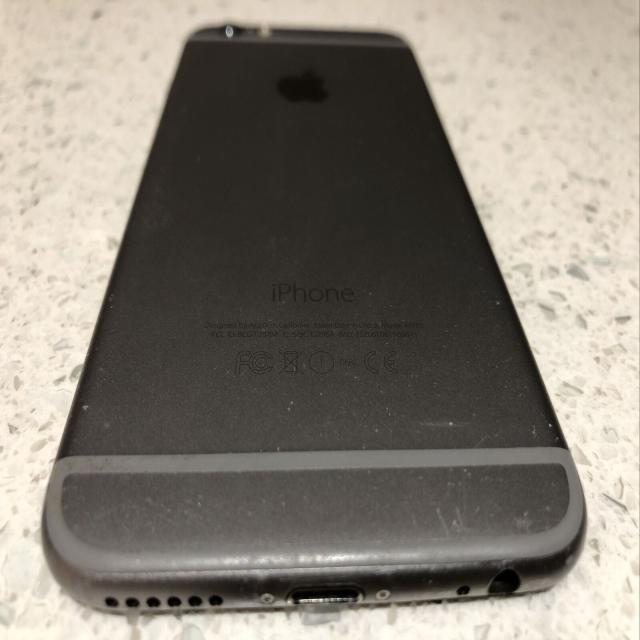Dents: (102, 547, 584, 572)
